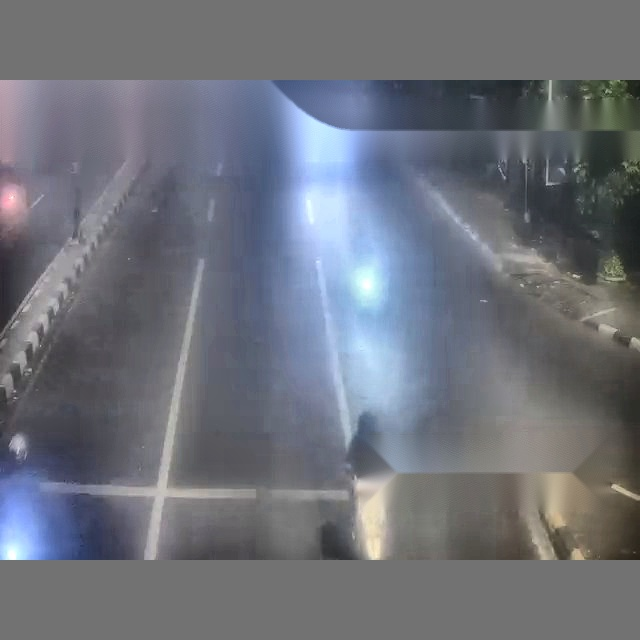Bis: (96, 43, 631, 558)
